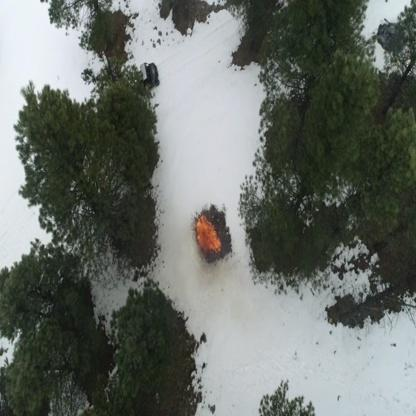Fire: (194, 213, 222, 258)
